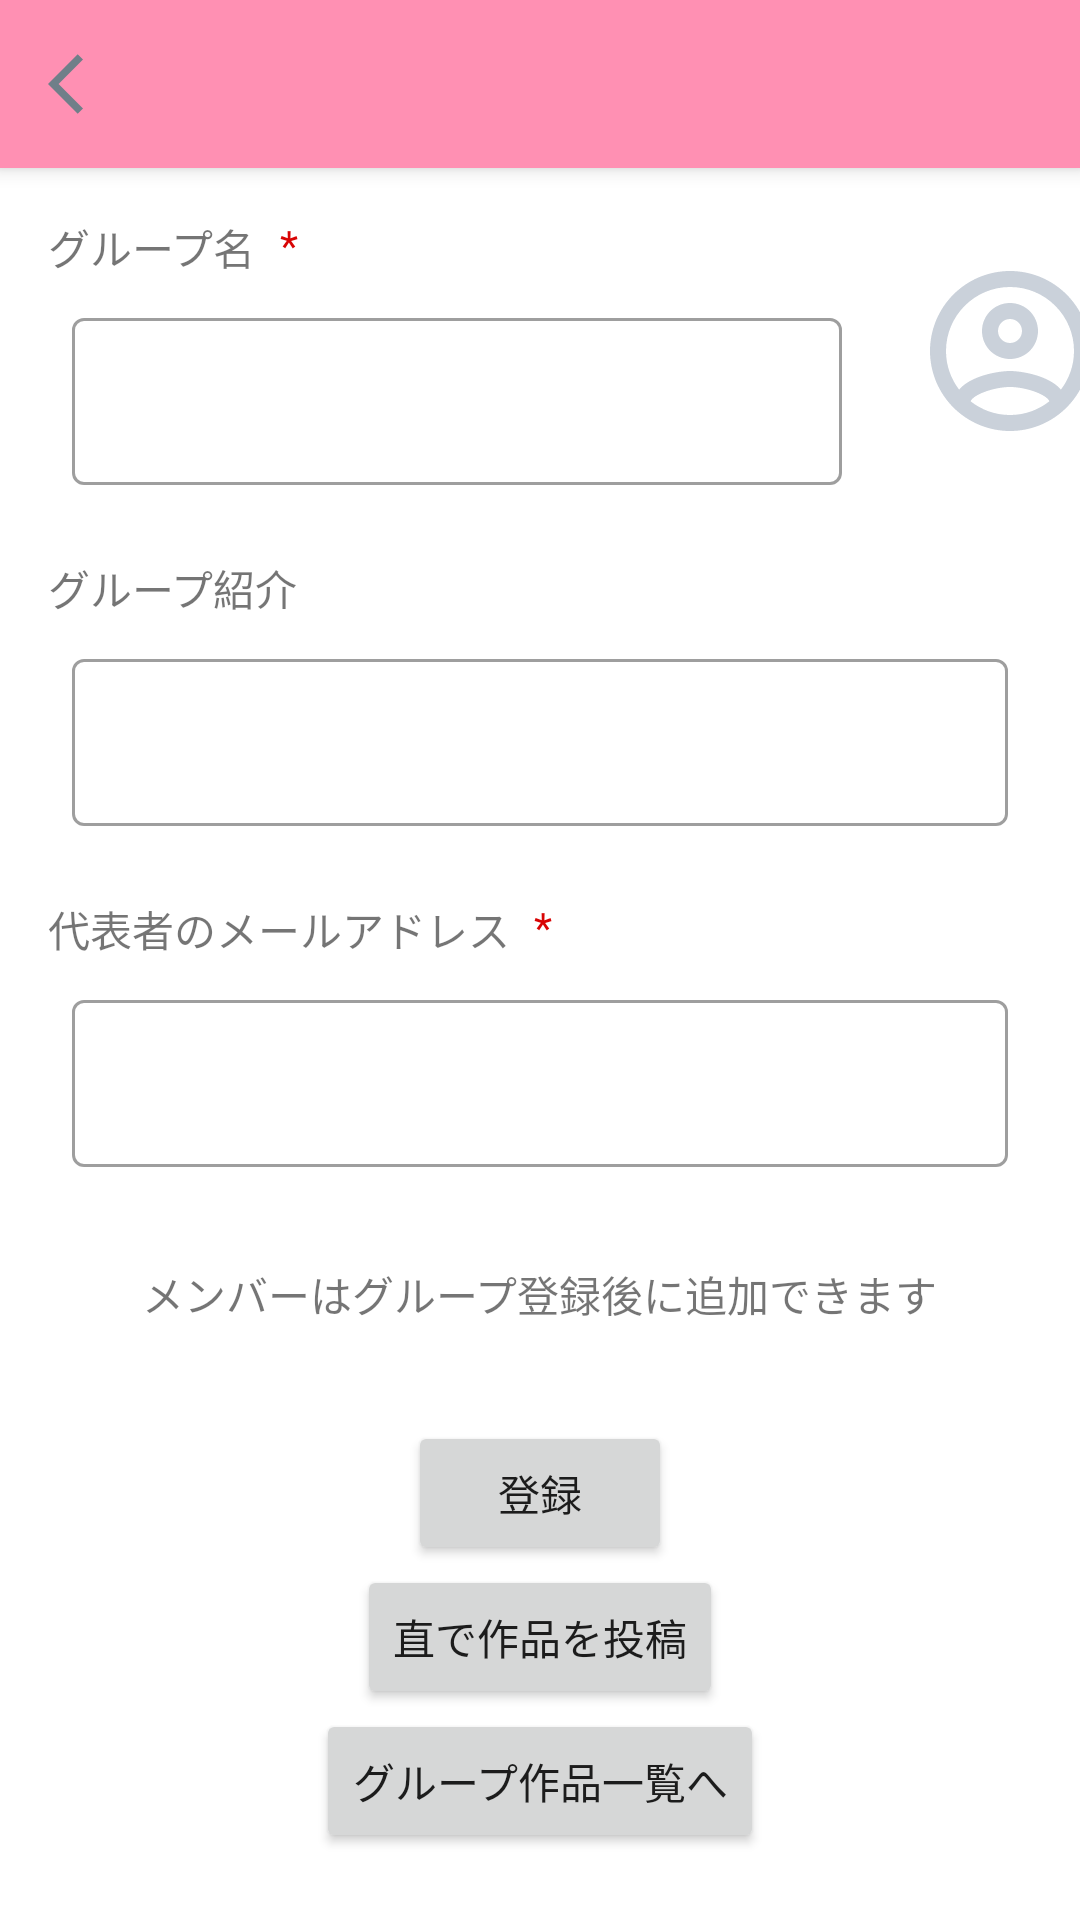

Point at icon controls on the screen. Image size 1080*1920, points as [x,y].
戻る: [65,84]
